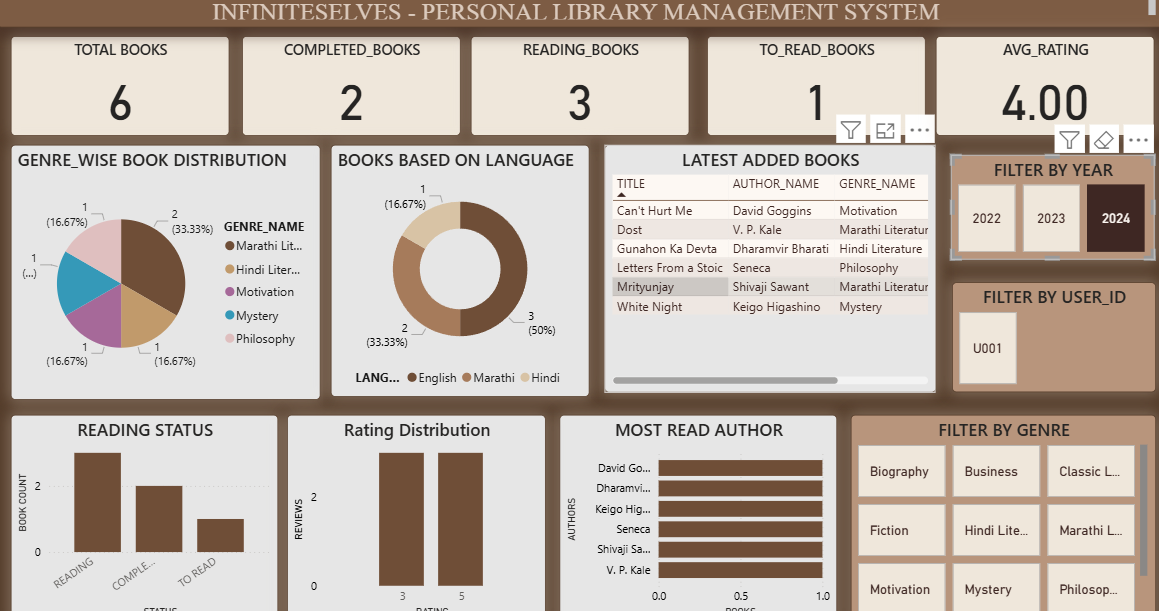

The page's visual inventory and layout, read from the dashboard file:
{"tool":"powerbi","page":{"name":"Page 1","canvas":[1280,720],"ordinal":0},"visuals":[{"type":"card","title":"TOTAL BOOKS","fields":{"Values":["Books.Totalbook"]},"box":[15.1,49.4,240.1,109.8],"z":0},{"type":"card","title":"COMPLETED_BOOKS","fields":{"Values":["UserBooks.BooksCompleted"]},"box":[269,49.4,240.1,109.8],"z":1000},{"type":"card","title":"READING_BOOKS","fields":{"Values":["UserBooks.BooksReading"]},"box":[520.1,49.4,240.1,109.8],"z":2000},{"type":"card","title":"TO_READ_BOOKS","fields":{"Values":["UserBooks.BooksToRead"]},"box":[779.4,49.4,240.1,109.8],"z":3000},{"type":"pieChart","title":"GENRE_WISE BOOK DISTRIBUTION","fields":{"Category":["Genres.GENRE_NAME"],"Y":["CountNonNull(Books.BOOK_ID)"]},"box":[15.1,168.8,271.7,279.9],"z":4000},{"type":"columnChart","title":"READING STATUS","fields":{"Category":["UserBooks.STATUS"],"Y":["CountNonNull(UserBooks.USERBOOK_ID)"]},"box":[15.1,465.2,271.7,230.5],"z":5000},{"type":"advancedSlicerVisual","title":"FILTER BY USER_ID","fields":{"Values":["UserBooks.USER_ID"]},"box":[1048.4,319.7,223.7,120.8],"z":6000},{"type":"donutChart","title":"BOOKS BASED ON LANGUAGE","fields":{"Category":["Books.LANGUAGE"],"Y":["CountNonNull(Books.BOOK_ID)"]},"box":[304.6,168.8,284,277.2],"z":7000},{"type":"barChart","title":"MOST READ AUTHOR","fields":{"Category":["Authors.AUTHOR_NAME"],"Y":["CountNonNull(Books.BOOK_ID)"]},"box":[617.5,465.2,304.6,230.5],"z":8000},{"type":"columnChart","title":"REVIEWS - RATING TREND","fields":{"Category":["Reviews.RATING"],"Y":["CountNonNull(Reviews.REVIEW_ID)"]},"box":[304.6,465.2,284,230.5],"z":9000},{"type":"tableEx","title":"LATEST ADDED BOOKS","fields":{"Values":["Books.TITLE","Authors.AUTHOR_NAME","Genres.GENRE_NAME","Books.AddedDate_Display"]},"box":[606.5,168.8,424,271.7],"z":10000},{"type":"advancedSlicerVisual","title":"FILTER BY GENRE","fields":{"Values":["Genres.GENRE_NAME"]},"box":[937.2,465.2,334.8,230.5],"z":11000},{"type":"advancedSlicerVisual","title":"FILTER BY YEAR","fields":{"Values":["Books.Year"]},"box":[1047,179.8,223.7,115.3],"z":12000},{"type":"textbox","box":[0,0,1280.3,39.8],"z":13000},{"type":"card","title":"AVG_RATING","fields":{"Values":["Reviews.AvgRating"]},"box":[1030.5,49.4,240.1,109.8],"z":14000}]}

Visuals, with their boxes on the page's 1280x720 design canvas (x1, y1, x2, y2). These are canvas units, not pixel positions in the 1159x611 screenshot, which may show the page scaled, cropped or inside an application window:
"TOTAL BOOKS" card: [15, 49, 255, 159]
"COMPLETED_BOOKS" card: [269, 49, 509, 159]
"READING_BOOKS" card: [520, 49, 760, 159]
"TO_READ_BOOKS" card: [779, 49, 1020, 159]
"GENRE_WISE BOOK DISTRIBUTION" pieChart: [15, 169, 287, 449]
"READING STATUS" columnChart: [15, 465, 287, 696]
"FILTER BY USER_ID" advancedSlicerVisual: [1048, 320, 1272, 440]
"BOOKS BASED ON LANGUAGE" donutChart: [305, 169, 589, 446]
"MOST READ AUTHOR" barChart: [618, 465, 922, 696]
"REVIEWS - RATING TREND" columnChart: [305, 465, 589, 696]
"LATEST ADDED BOOKS" tableEx: [606, 169, 1030, 440]
"FILTER BY GENRE" advancedSlicerVisual: [937, 465, 1272, 696]
"FILTER BY YEAR" advancedSlicerVisual: [1047, 180, 1271, 295]
textbox: [0, 0, 1280, 40]
"AVG_RATING" card: [1030, 49, 1271, 159]
